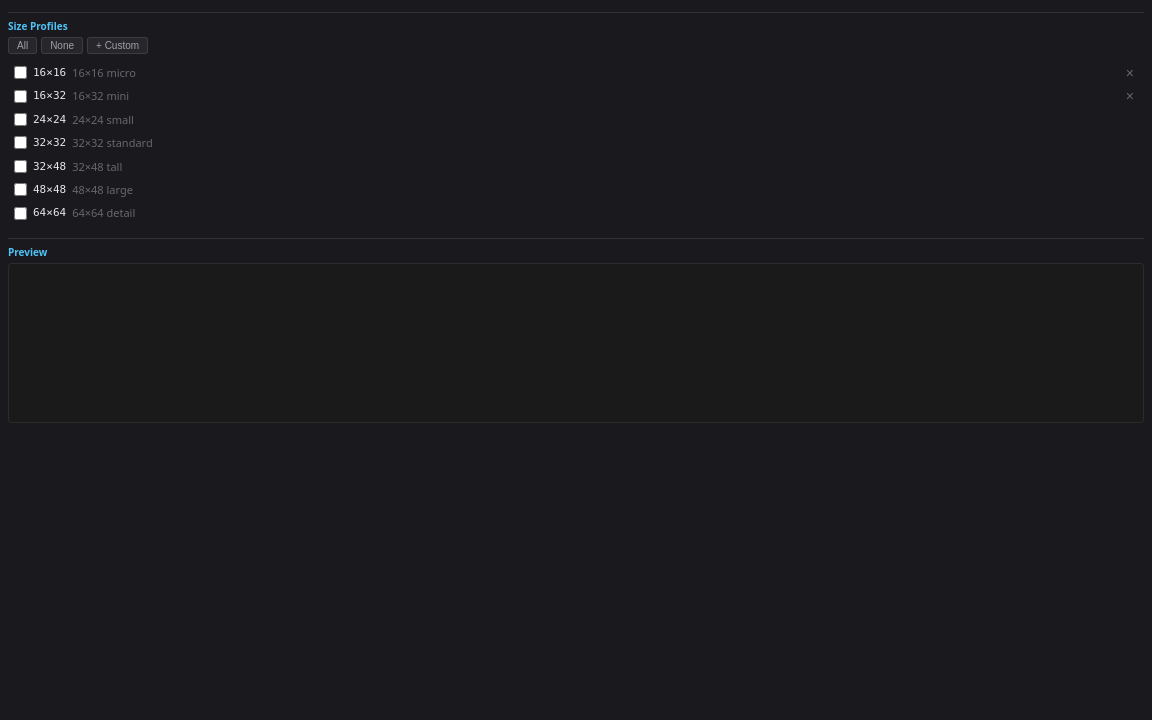
Test case: VectorReductionPanel › clicking + Custom shows add form
Click the button "+ Custom" at (118, 46), box [87,37,148,54]
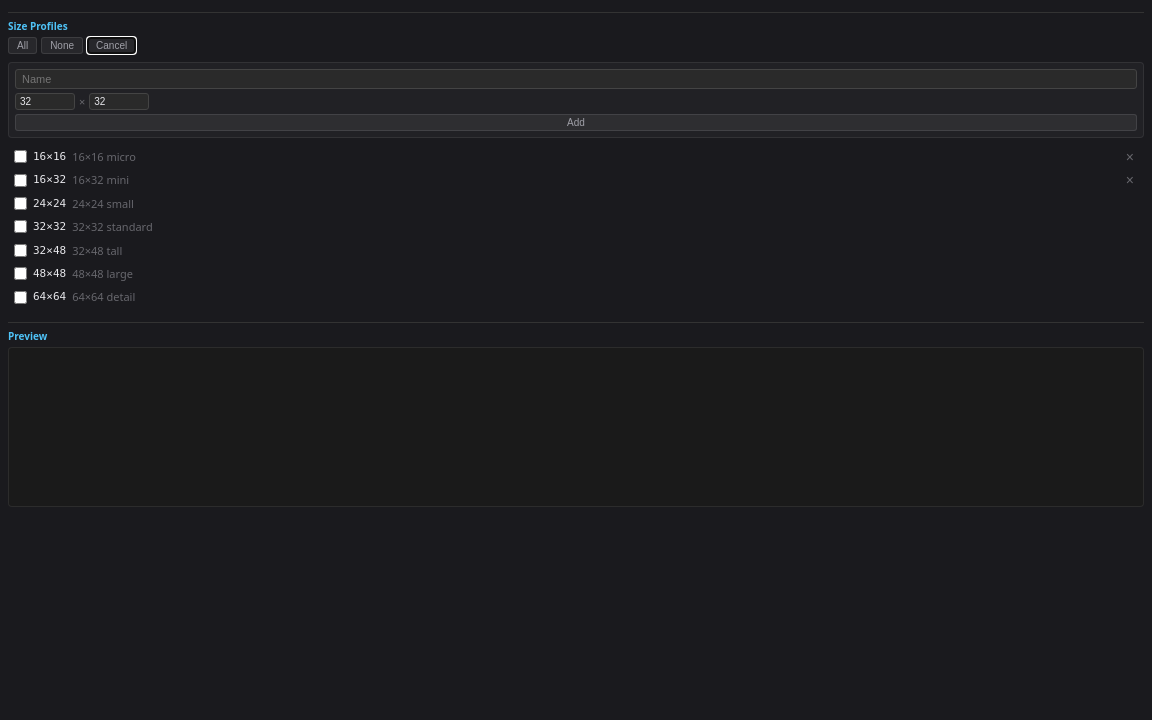
Expected: the field with placeholder "Name" is shown, [15,69,1137,89]
Expected: the button "Add" is shown, [15,114,1137,131]
